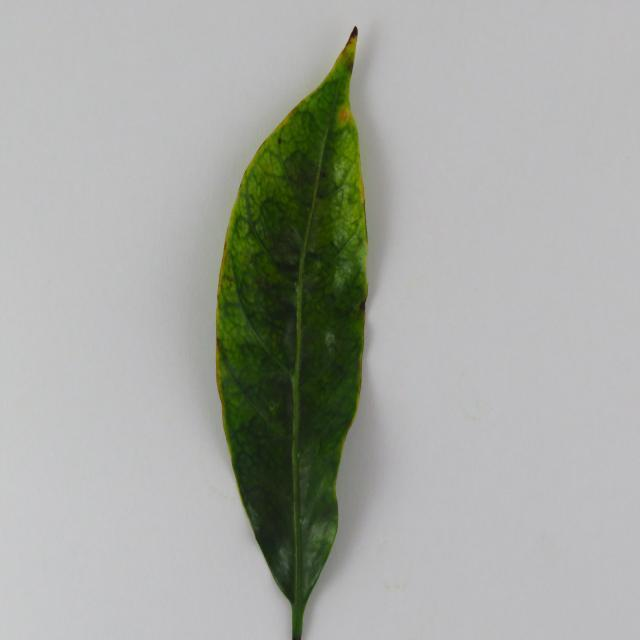DeficienciaNutricional-Manganeso: (216, 28, 368, 638)
